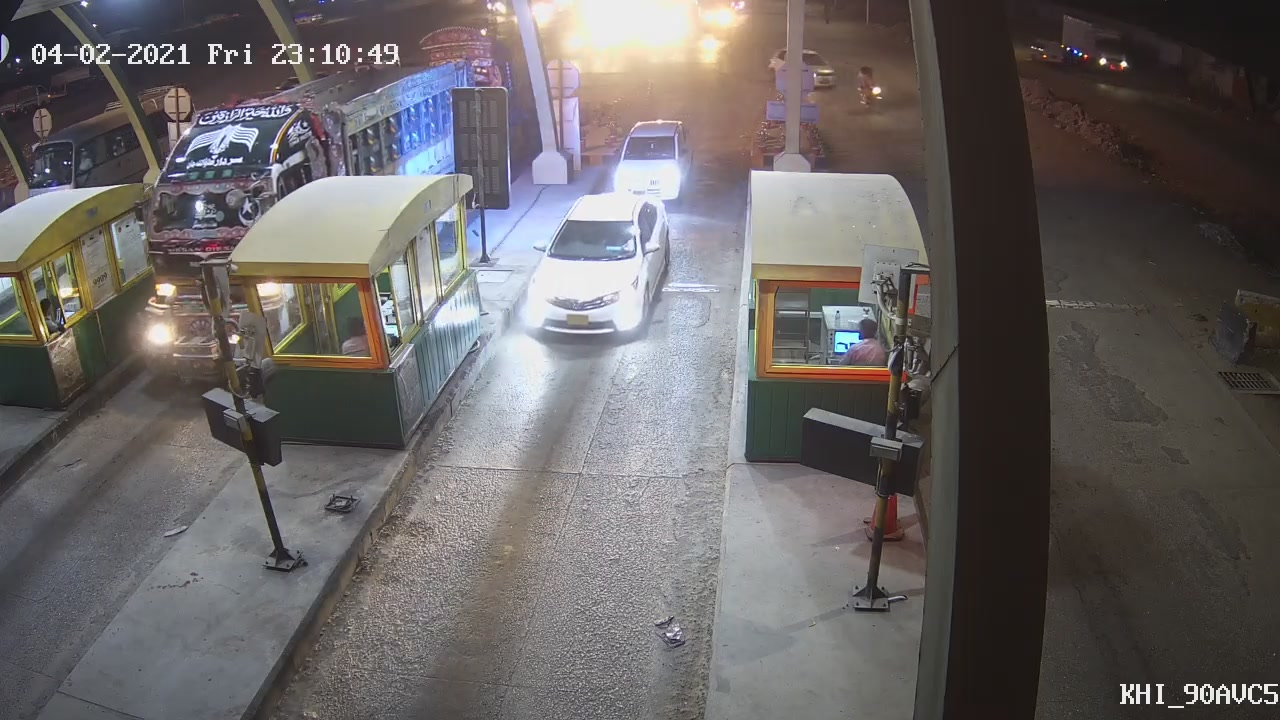F1: (516, 186, 673, 340)
